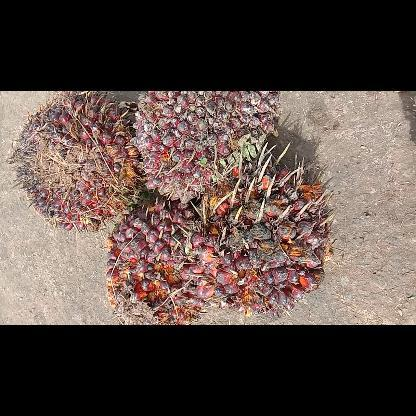Kurang masak: (8, 92, 142, 236), (131, 91, 285, 205)
TBS masak: (183, 141, 339, 317), (104, 198, 224, 324)
